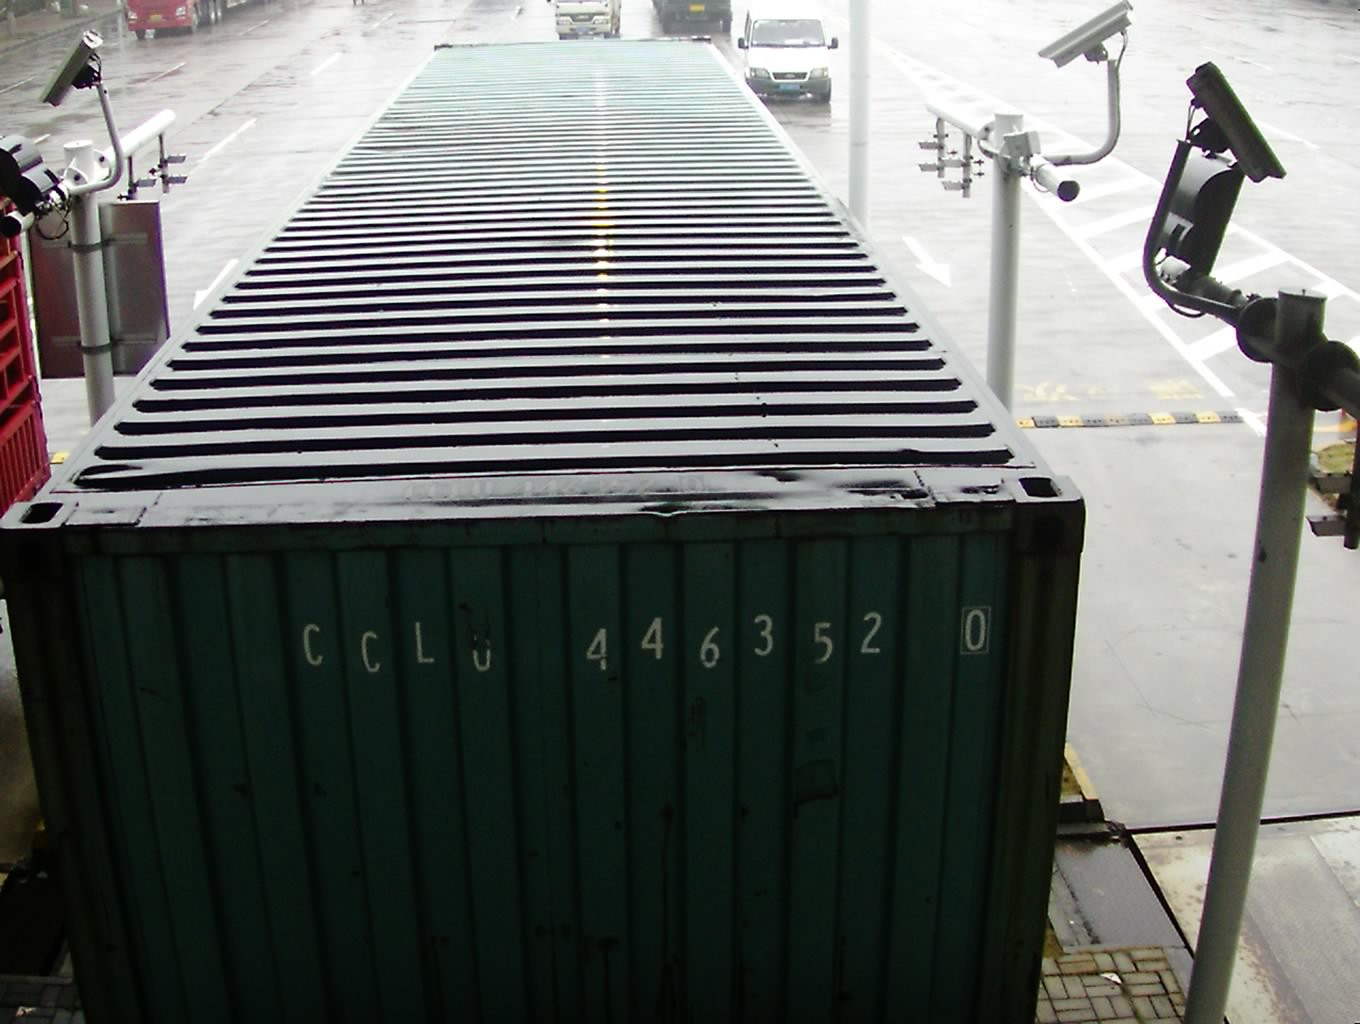words: (283, 595, 994, 684)
